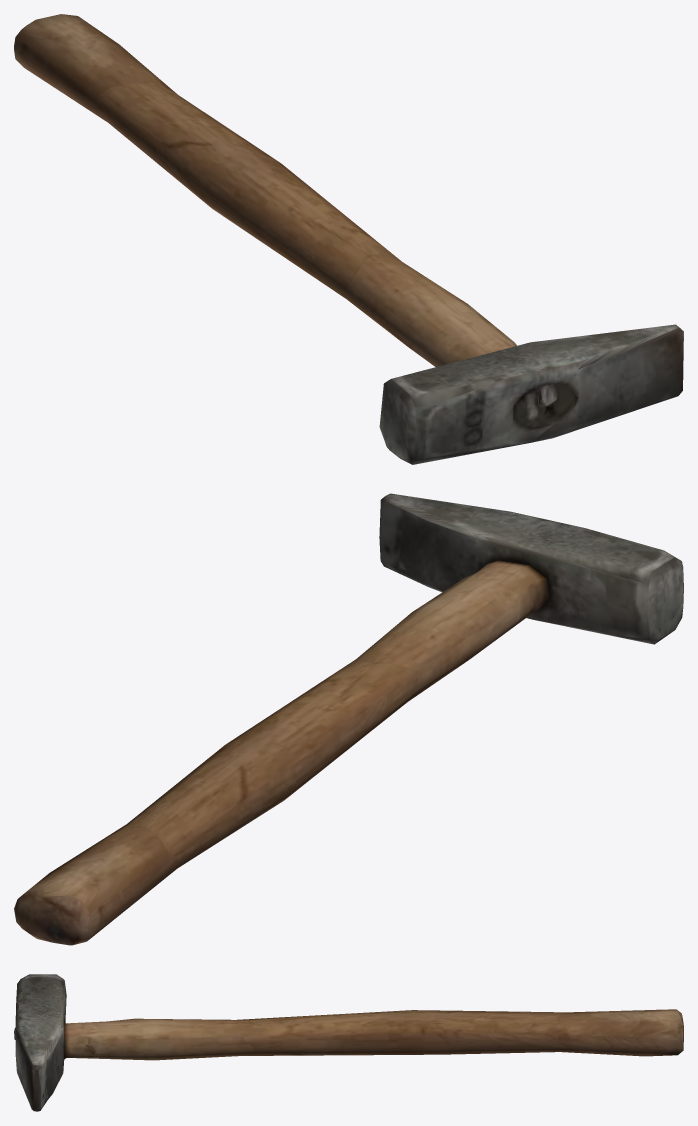
Rendered from hammer.glb.
3 views of the same model, one above another, from view 1: azimuth 30°, elevation 25°; view 2: azimuth 150°, elevation 25°; view 3: azimuth 270°, elevation 25° (orthographic). The views are drawn at different scales.
Visible parts, largest first — view 1: hammer; view 2: hammer; view 3: hammer.
Part boxes in pixels (box(x1,y1,x2,y2)): hammer: box(14, 14, 683, 464); hammer: box(14, 493, 683, 945); hammer: box(14, 974, 683, 1111).
Bounding box in the file's own units: 0.0989 × 0.024 × 0.3001.
1 material, 1 textured.
